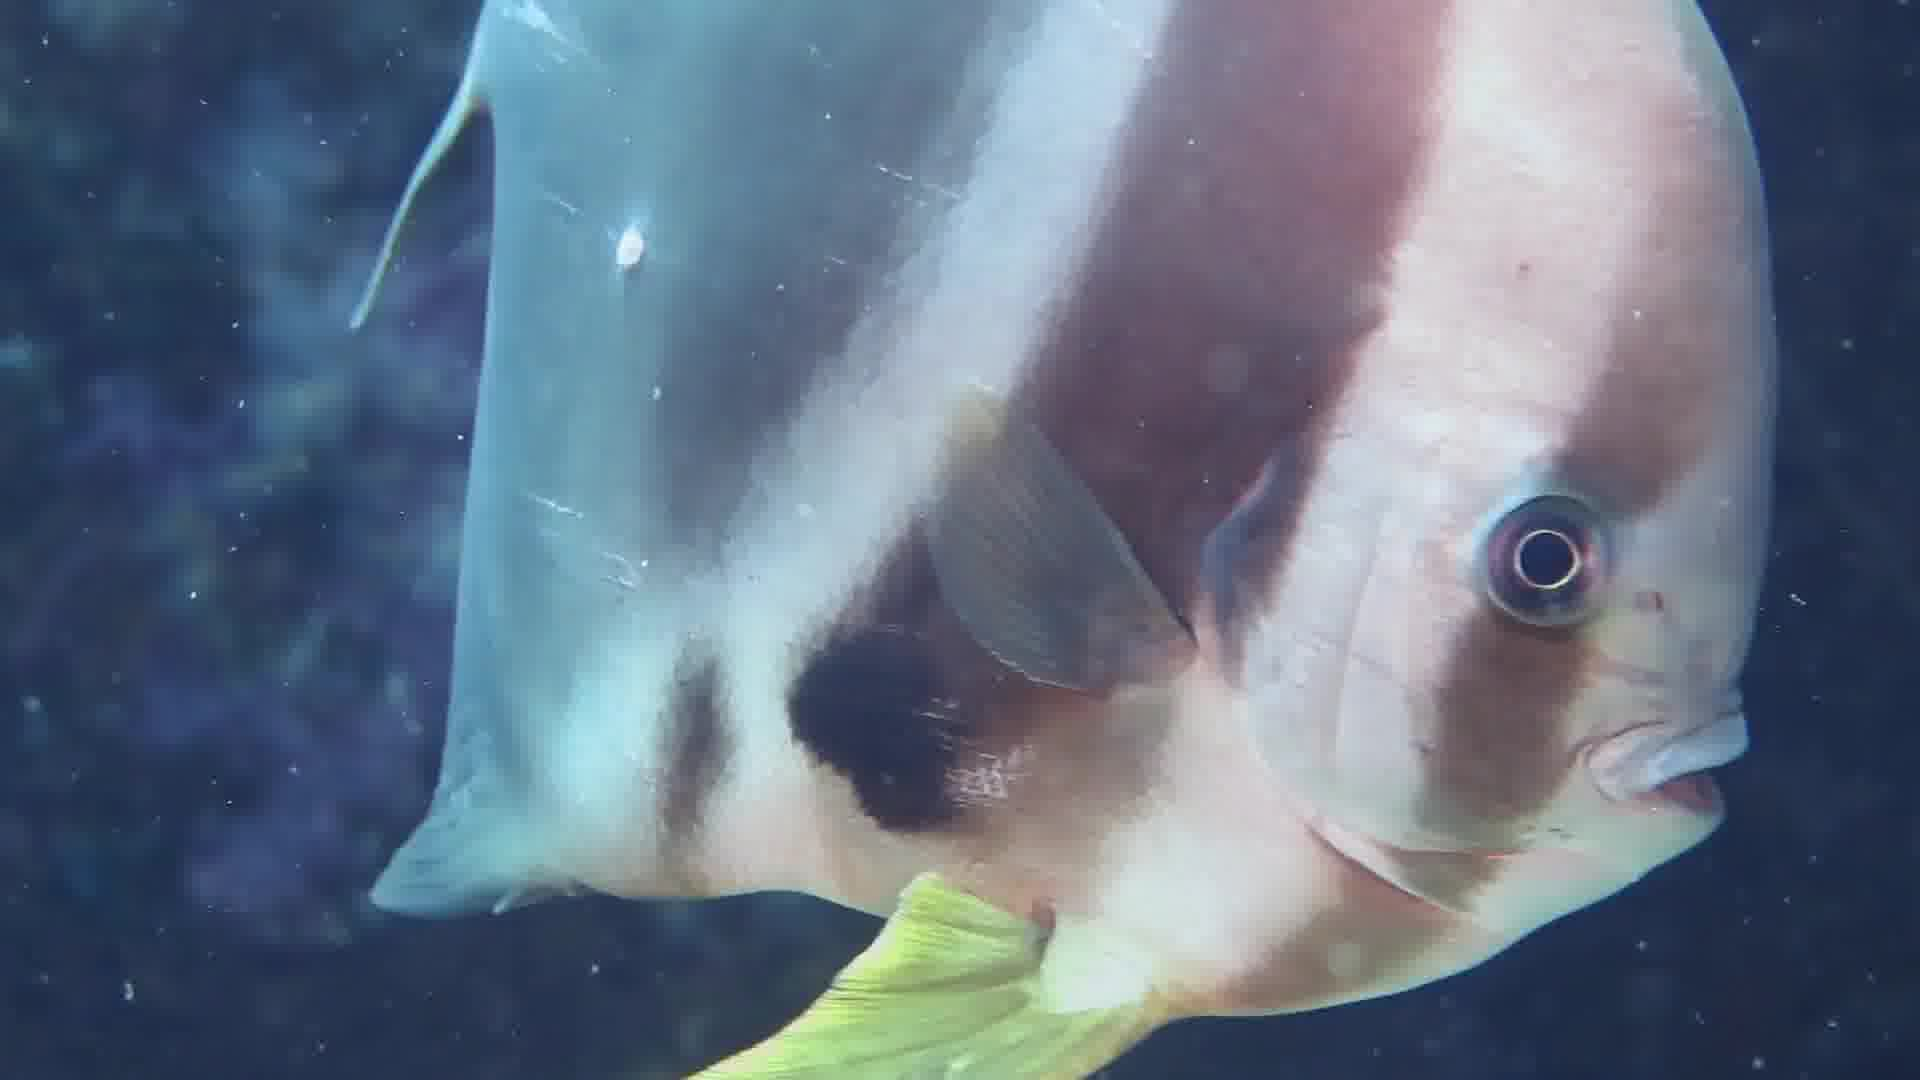Platax teira: (345, 1, 1821, 1080)
